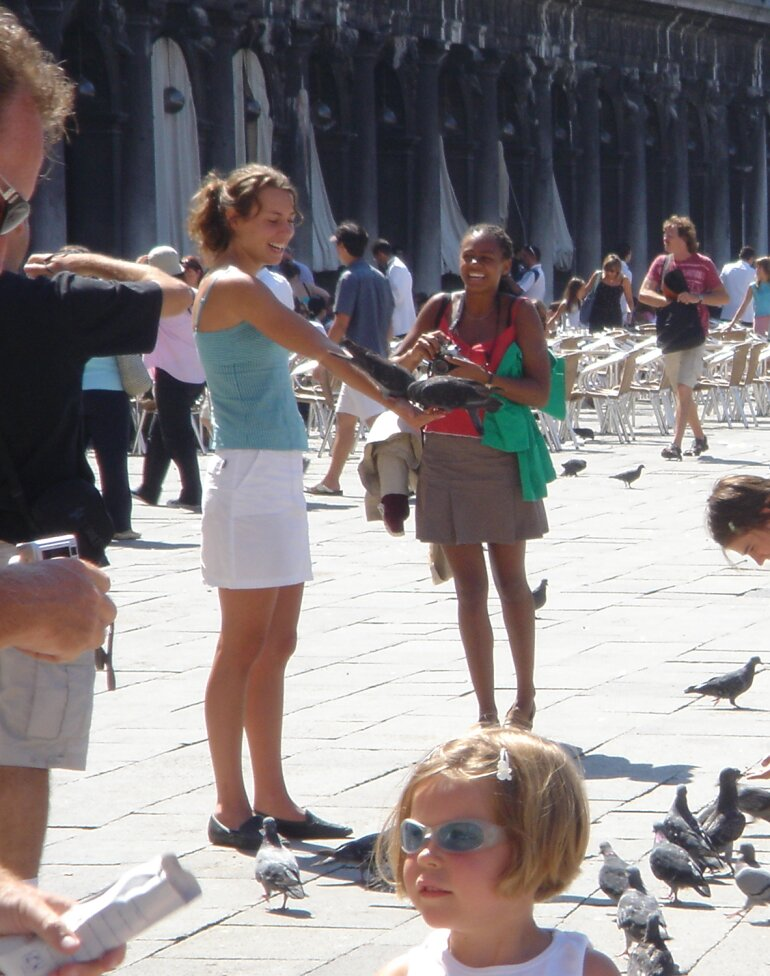person: (393, 215, 578, 732), (370, 729, 631, 976), (1, 169, 95, 849), (630, 203, 732, 461), (119, 236, 208, 519), (319, 215, 397, 484), (678, 473, 770, 565)
